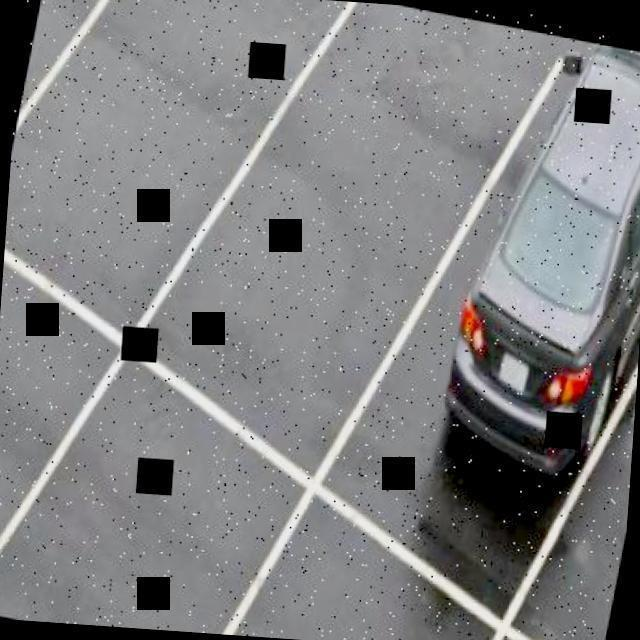Car: (462, 33, 640, 460)
Vacant: (250, 38, 464, 371), (39, 0, 245, 325), (53, 490, 216, 632), (290, 540, 465, 640), (20, 0, 68, 113), (0, 328, 18, 550)
